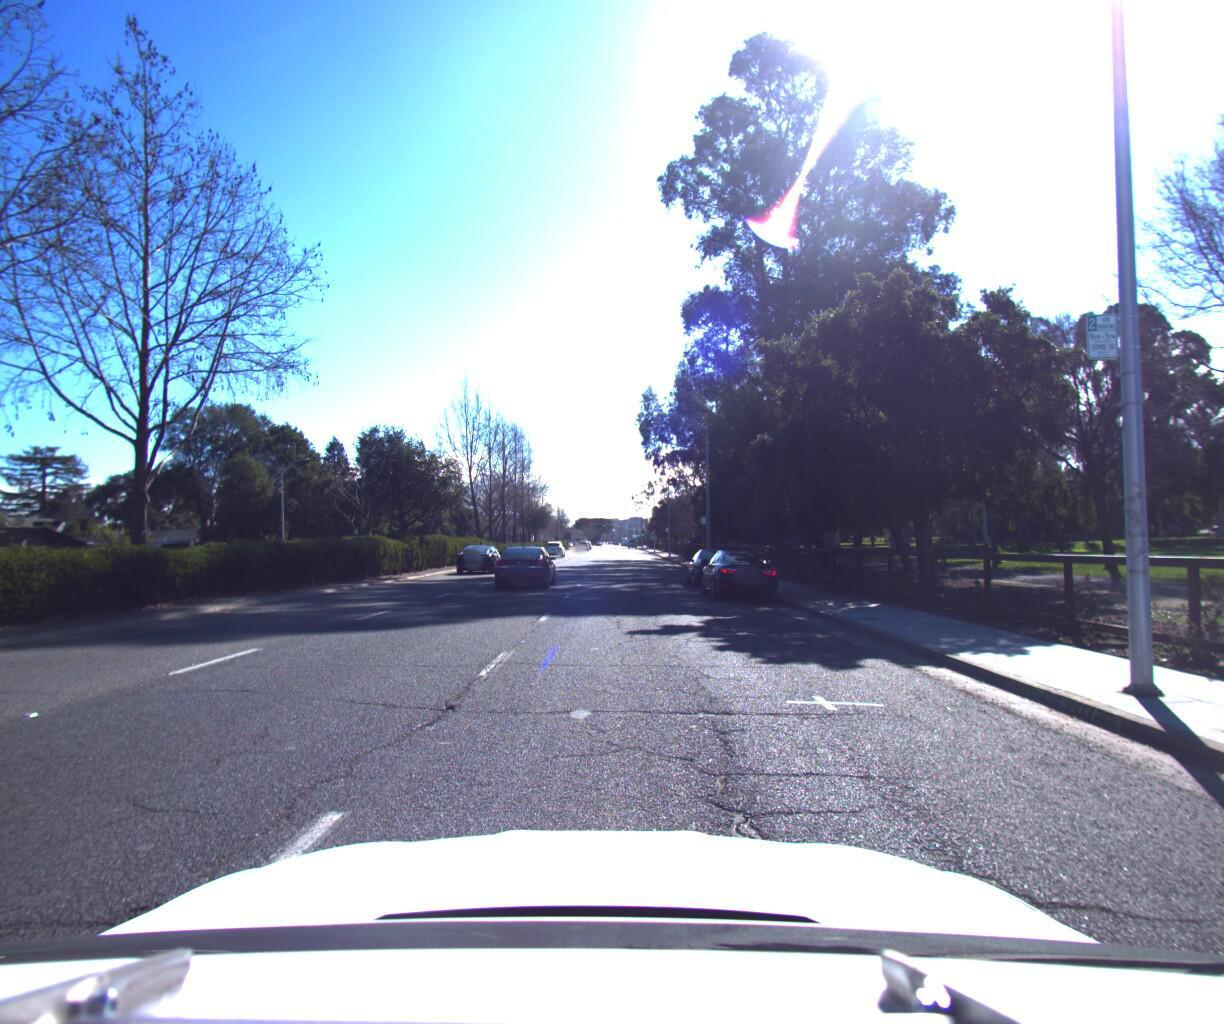car: (695, 538, 782, 601), (487, 535, 559, 584), (682, 538, 744, 584), (453, 534, 504, 568), (543, 531, 567, 550)
